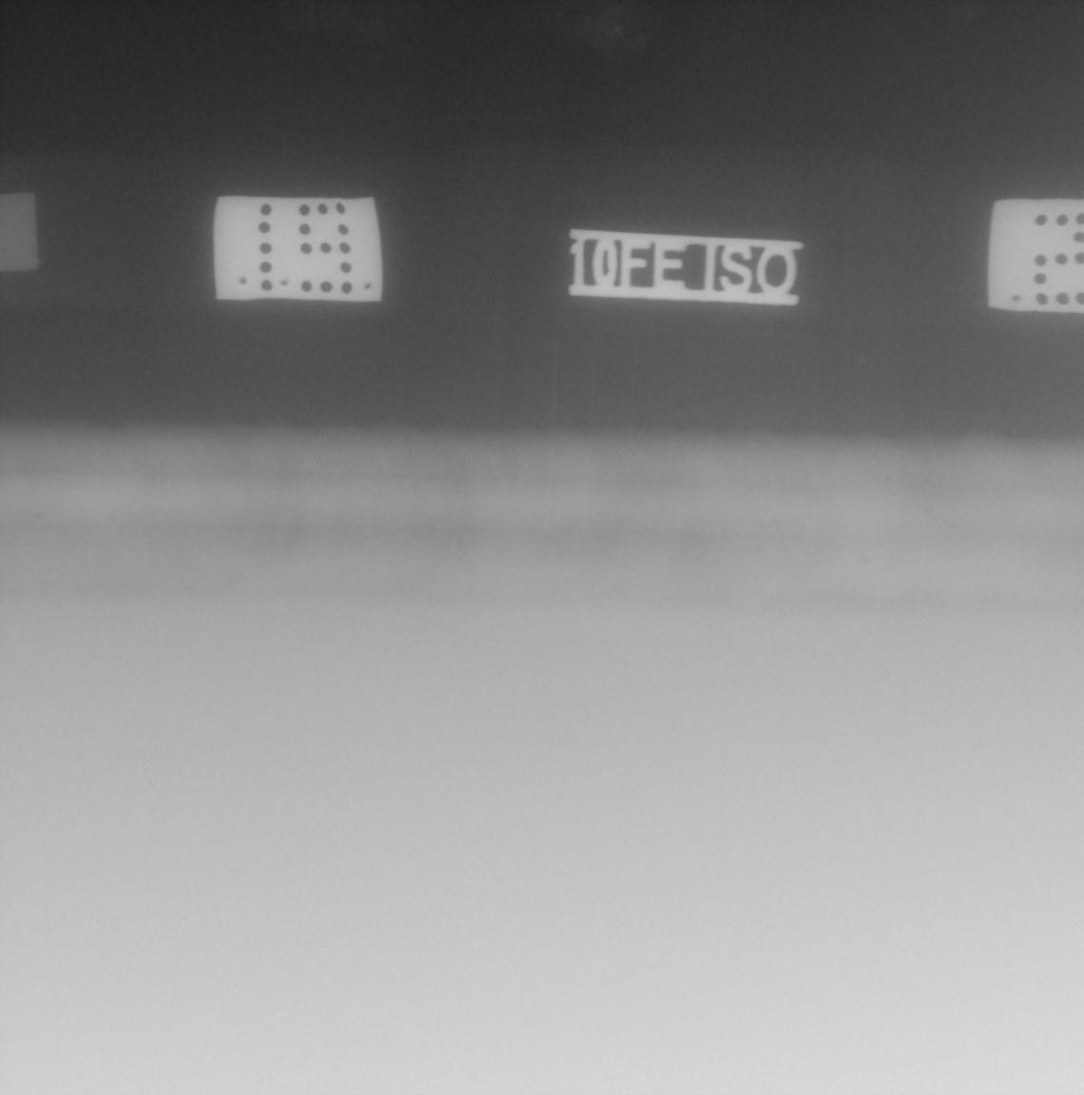Inclusion: (860, 555, 874, 565)
Pore/Porosity: (923, 504, 936, 516), (883, 475, 893, 484), (36, 515, 41, 519)
